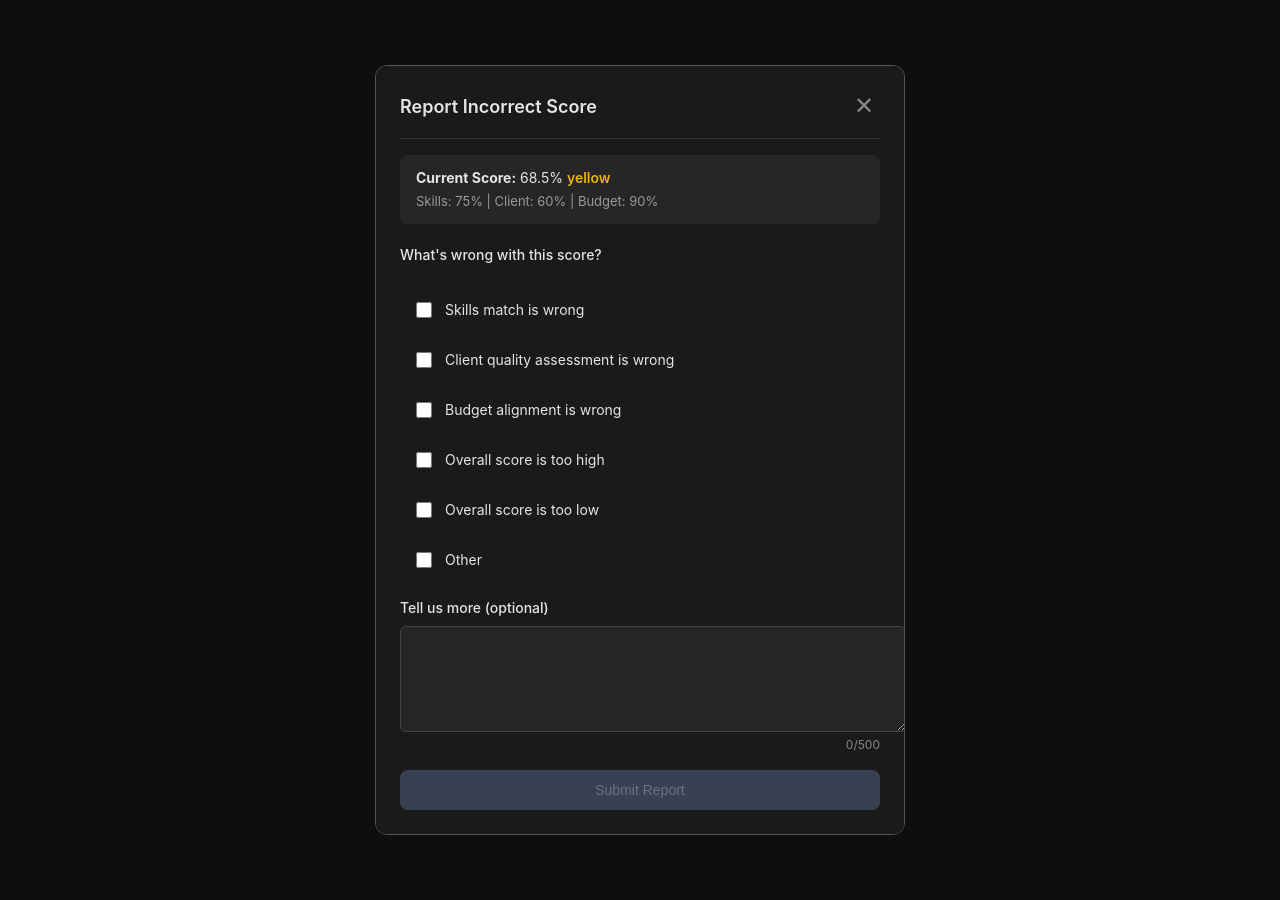
Test case: ReportScoreModal › Task 12.4: Basic rendering and submit button states › enables submit button after selecting a checkbox
Click the checkbox labelled "Skills match is wrong".
click(424, 310)  # box [416,302,432,318]
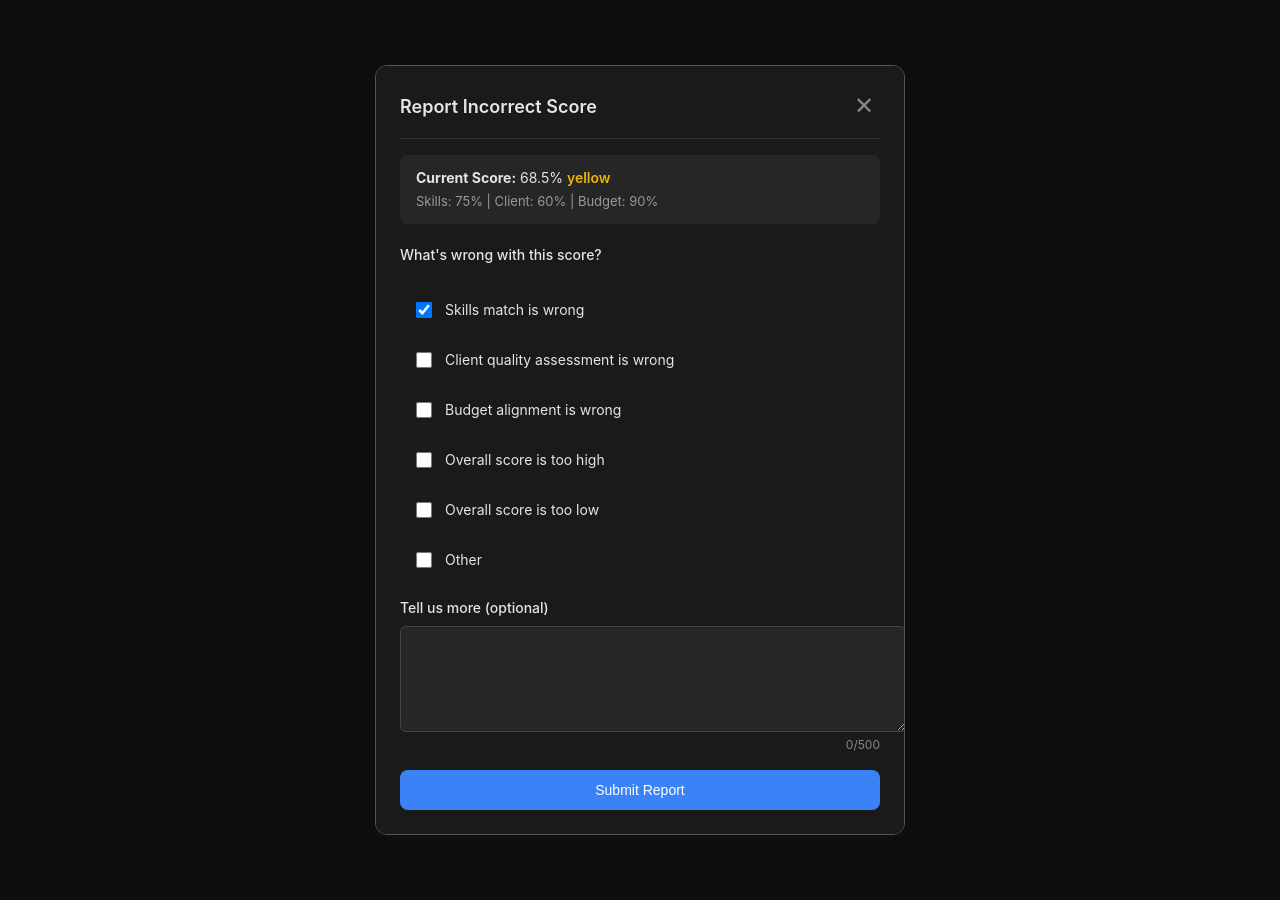
Now the button "Submit Report" is enabled, box [400,770,880,810]
